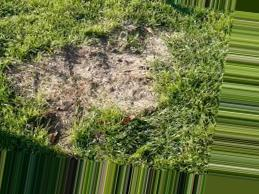patch: (65, 57, 146, 85), (82, 86, 148, 103), (38, 62, 64, 90), (107, 42, 125, 56), (19, 64, 32, 77)
